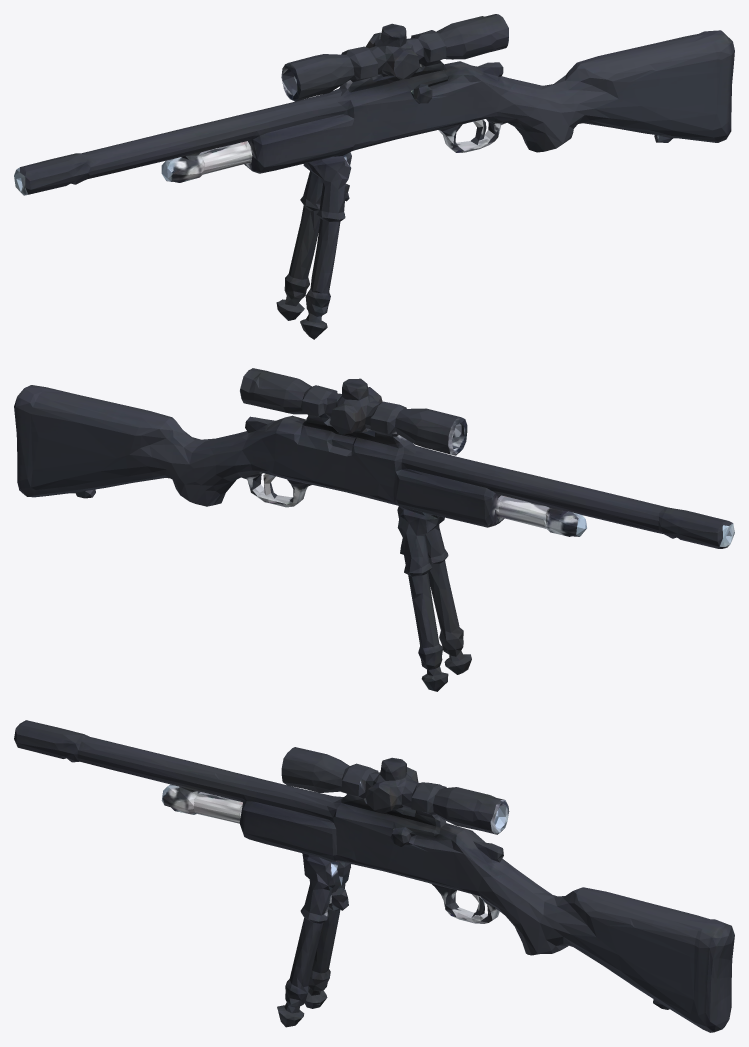
File: long-rifle.glb
The picture shows the model from 3 angles, top to bottom: view 1: azimuth 30°, elevation 25°; view 2: azimuth 150°, elevation 25°; view 3: azimuth 330°, elevation 25°; orthographic projection.
Parts seen in each view (by area): view 1: long-rifle; view 2: long-rifle; view 3: long-rifle.
Boxes of the visible parts, left/top/right/bottom form: long-rifle: left=14, top=14, right=734, bottom=339; long-rifle: left=14, top=368, right=734, bottom=691; long-rifle: left=14, top=720, right=734, bottom=1032.
Size of the model in its own units: 1.55 by 0.5804 by 0.1381.
1 material, 1 textured.
